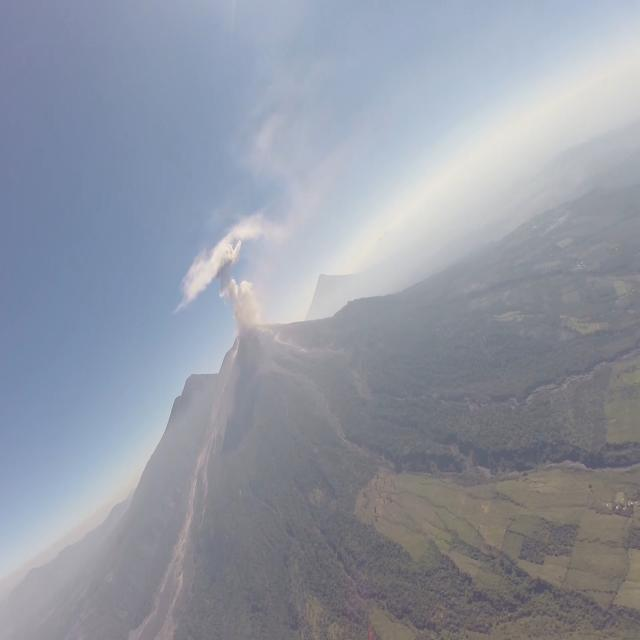Plume: (220, 275, 262, 325)
